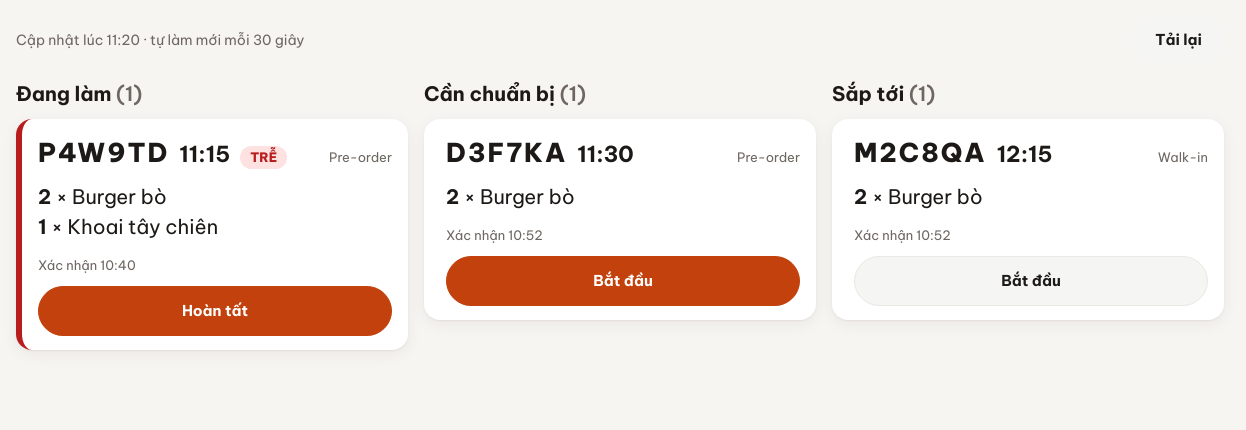
Test: KitchenPage (UC-12.1) › lỗi khi làm mới: giữ danh sách cũ nhưng cảnh báo có thể đã cũ (E3)
Expected: the text "D3F7KA" is shown, [446,132,567,172]
Click the button "Tải lại" at (1179, 40), box [1133,16,1224,64]
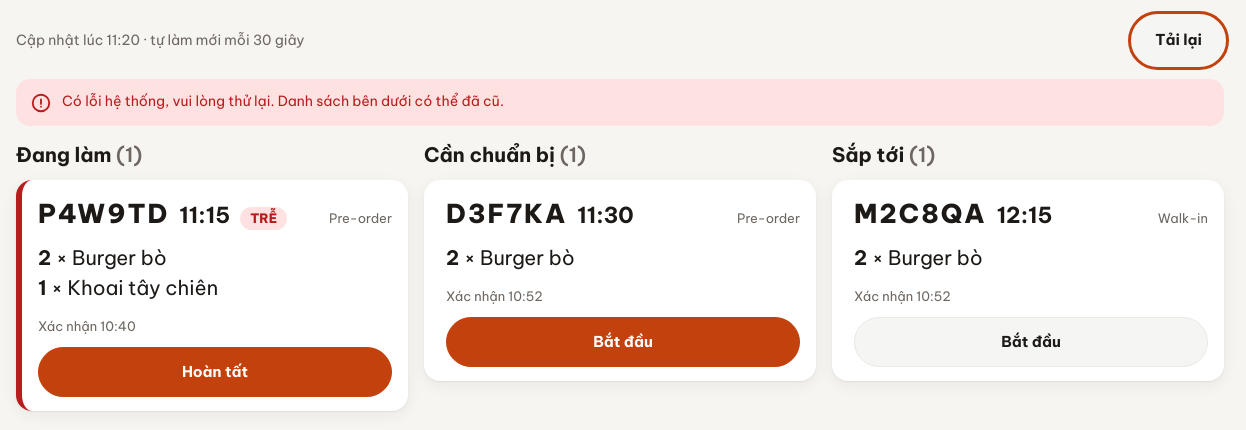
Expected: the text "D3F7KA" is shown, [446,194,567,232]
Expected: the message shows "có thể đã cũ", [274,92,504,110]
